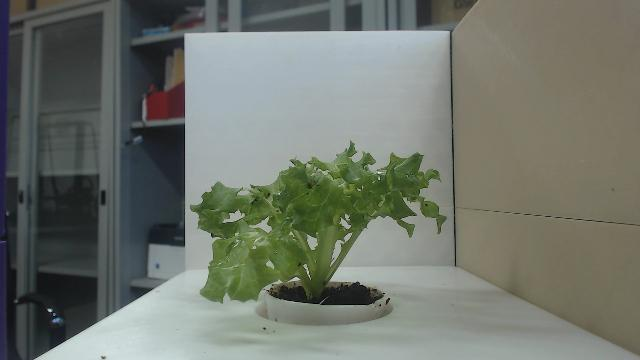Vegetative Stage: (189, 140, 447, 304)
